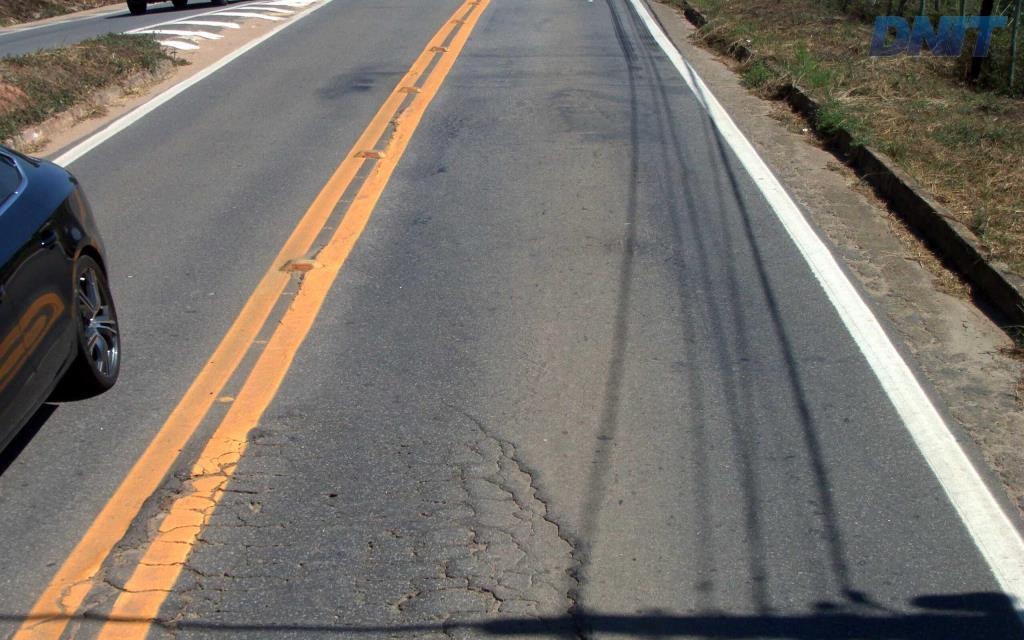crack: (532, 492, 583, 610), (385, 518, 428, 565), (397, 574, 443, 615), (270, 561, 322, 594)
